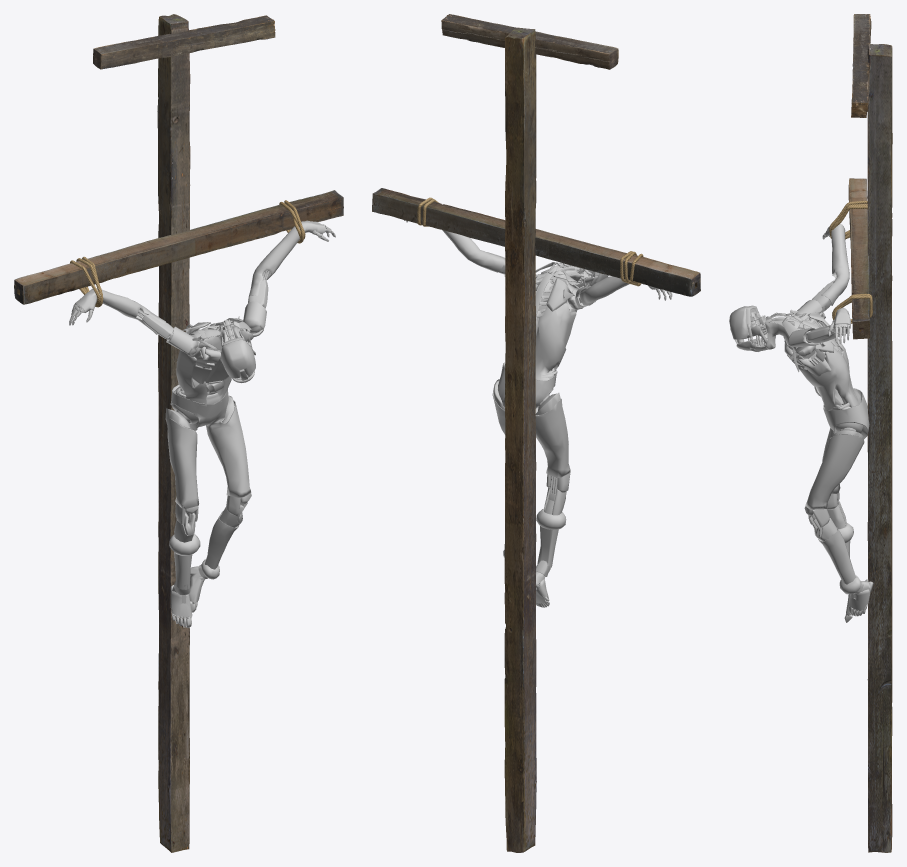
Rendered from MOD_crucifix.fbx.
3 views of the same model, side by side, from view 1: azimuth 30°, elevation 25°; view 2: azimuth 150°, elevation 25°; view 3: azimuth 270°, elevation 25° (orthographic). The views are drawn at different scales.
Visible parts, largest first — view 1: MOD_crucifix; view 2: MOD_crucifix; view 3: MOD_crucifix.
Part boxes in pixels (x1,y1,x2,y2): MOD_crucifix: (14, 14, 343, 852); MOD_crucifix: (372, 14, 700, 852); MOD_crucifix: (729, 14, 892, 852).
Bounding box in the file's own units: 167 × 411 × 75.99.
